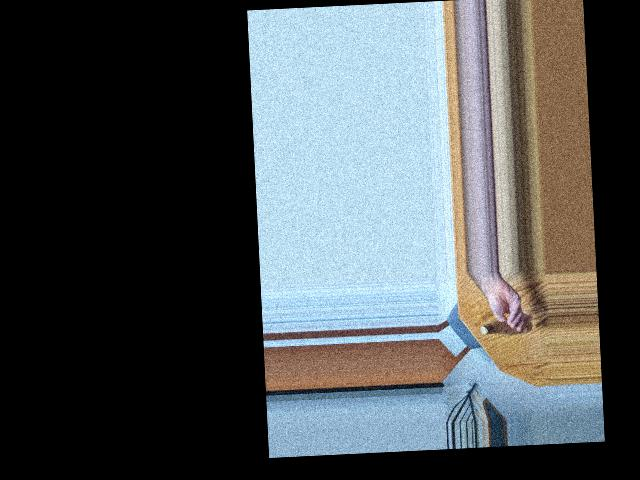sweet_potato: (483, 316, 529, 340)
